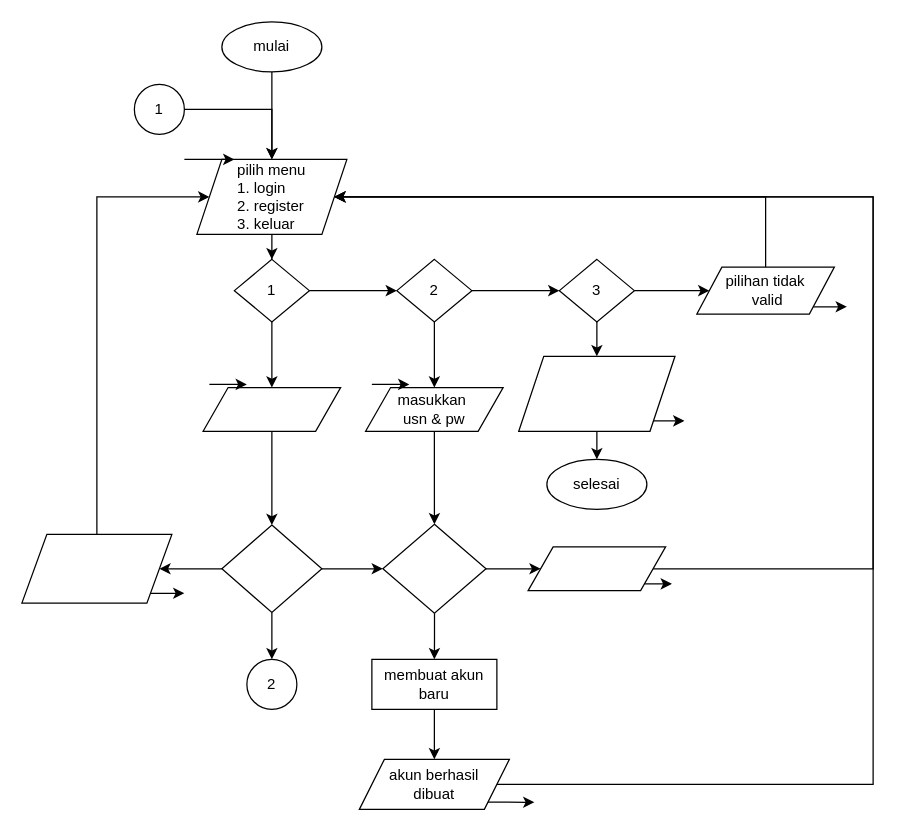
The diagram is 905 pixels wide and 835 high, and some of its shapes have lost their labels. The centre of each missing label's shape, as x and y in pixels:
login berhasil?: pixel 271 568
login gagal, cek kembali username dan password: pixel 96 568
masukkan usn dan pw: pixel 271 408
sudah digunakan: pixel 596 568
terima kasih telah menggunakan program syifa hijab: pixel 596 393
usn blm digunakan?: pixel 434 568
